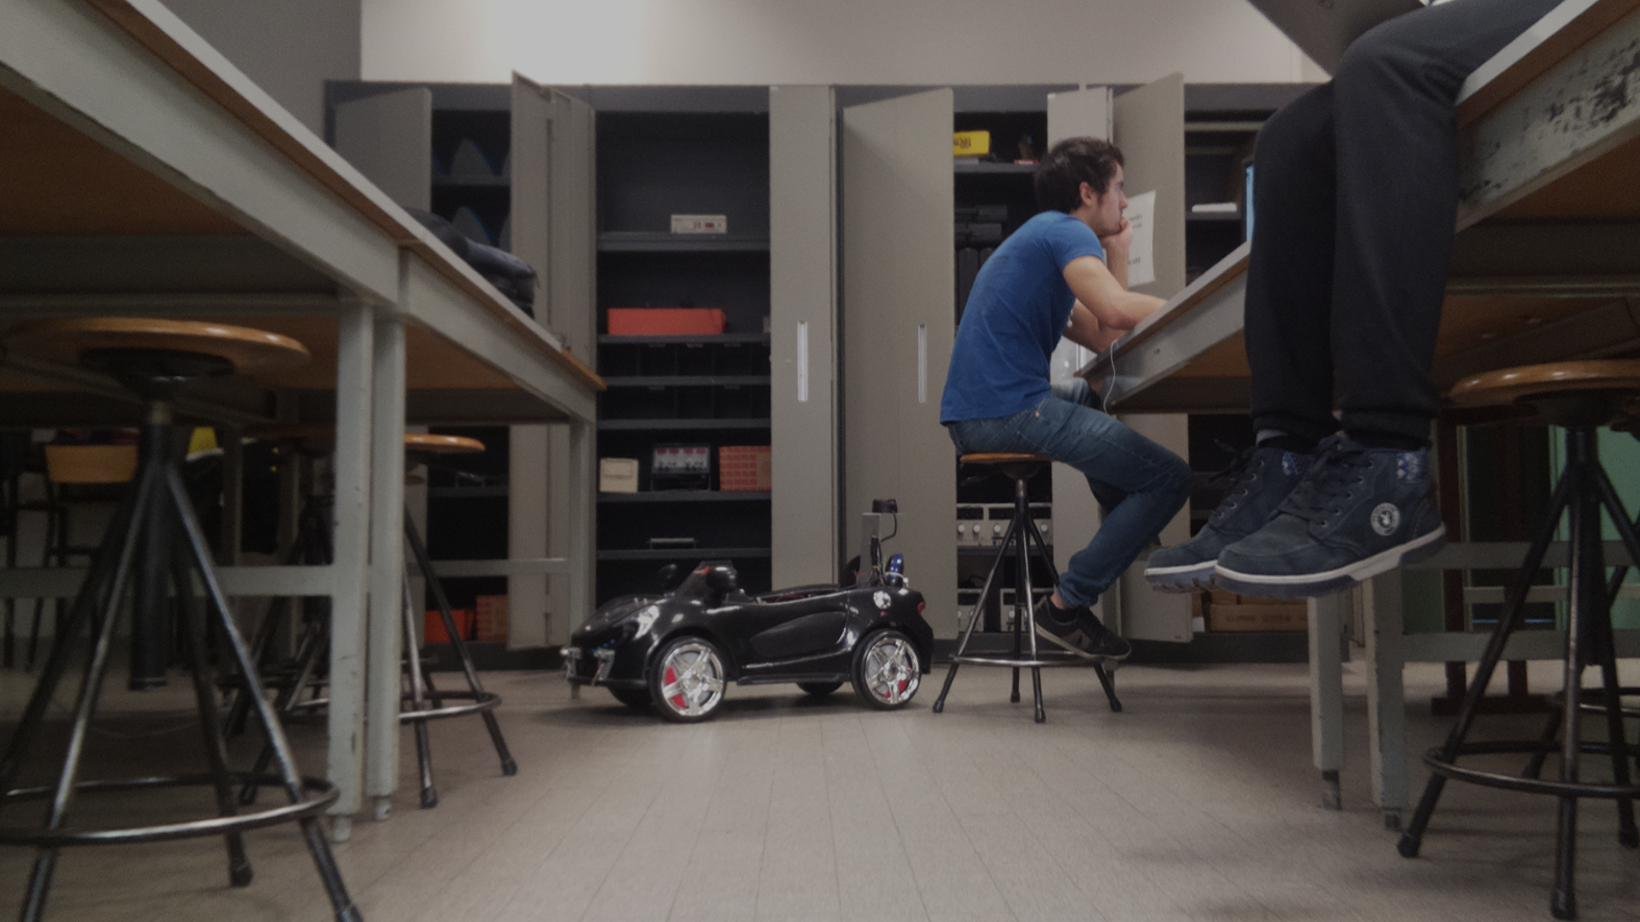big: (554, 553, 941, 722)
